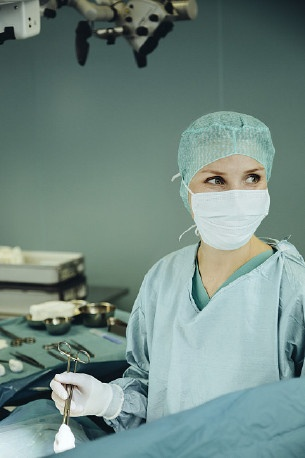Mask: (191, 163, 276, 248)
